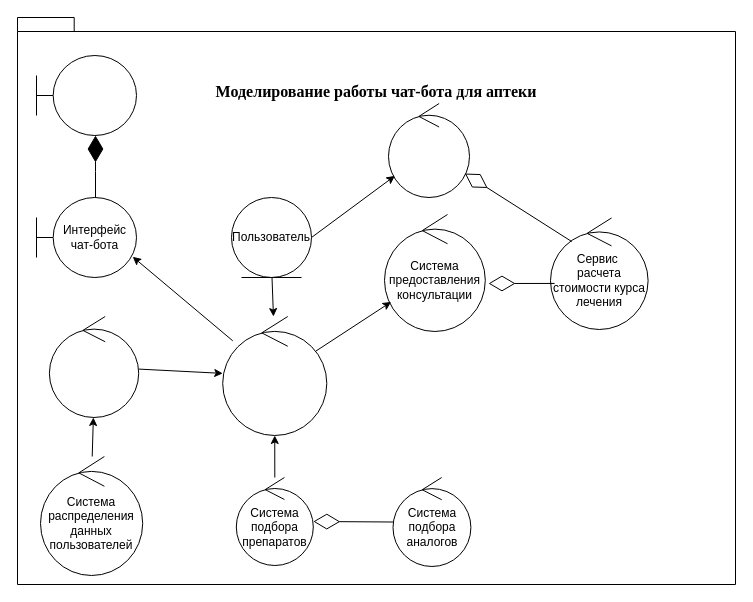
Some shapes in this 753 by 602 pixel diagram are drawn without their labels. Here are the shapes that lost their labels. From the top down, the box of each, then its label:
(36, 54, 136, 136): Интерфейс приложения
(388, 102, 470, 198): Система для оформления заказа
(48, 316, 139, 418): Система управления безопасностью данных
(222, 316, 327, 436): Система для анализа симптомов и жалоб пользователя
